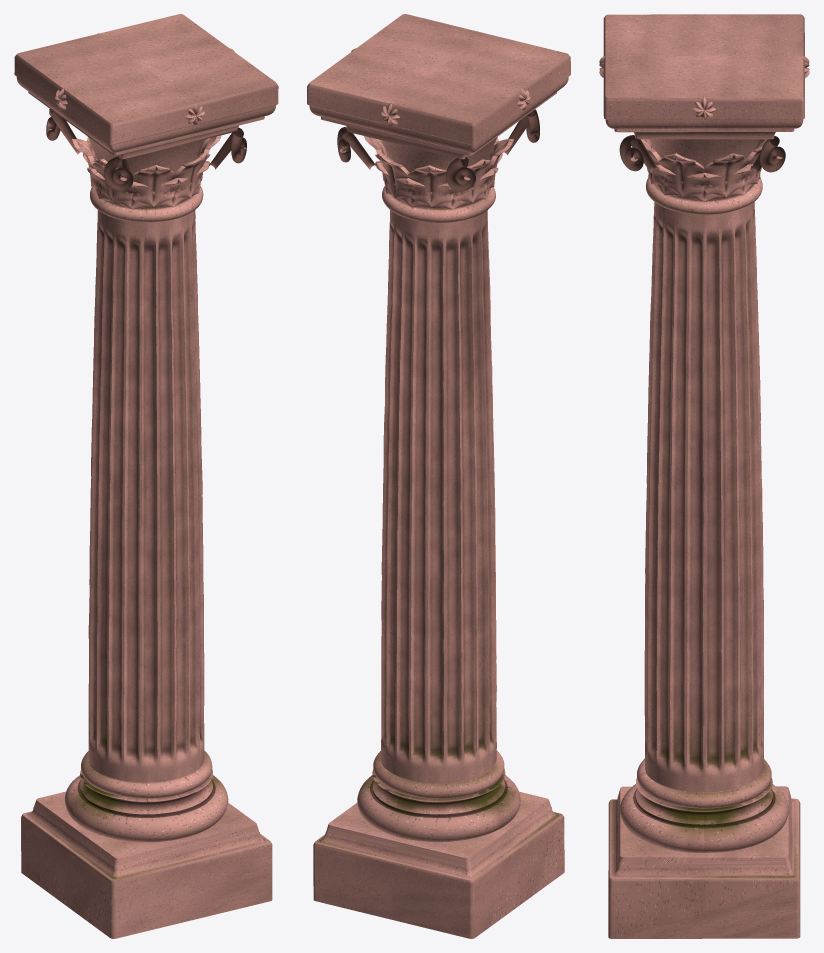
Rendered from w3_court_cantera_column.glb.
3 views of the same model, side by side, from view 1: azimuth 30°, elevation 25°; view 2: azimuth 150°, elevation 25°; view 3: azimuth 270°, elevation 25° (orthographic). The views are drawn at different scales.
Parts seen in each view (by area): view 1: w3_court_cantera_column; view 2: w3_court_cantera_column; view 3: w3_court_cantera_column.
Part boxes in pixels (x1,y1,x2,y2): w3_court_cantera_column: (14, 14, 278, 938); w3_court_cantera_column: (307, 14, 570, 938); w3_court_cantera_column: (599, 14, 809, 938).
Bounding box in the file's own units: 0.7237 × 3.2 × 0.7237.
Materials: 2 (2 with a texture image).
